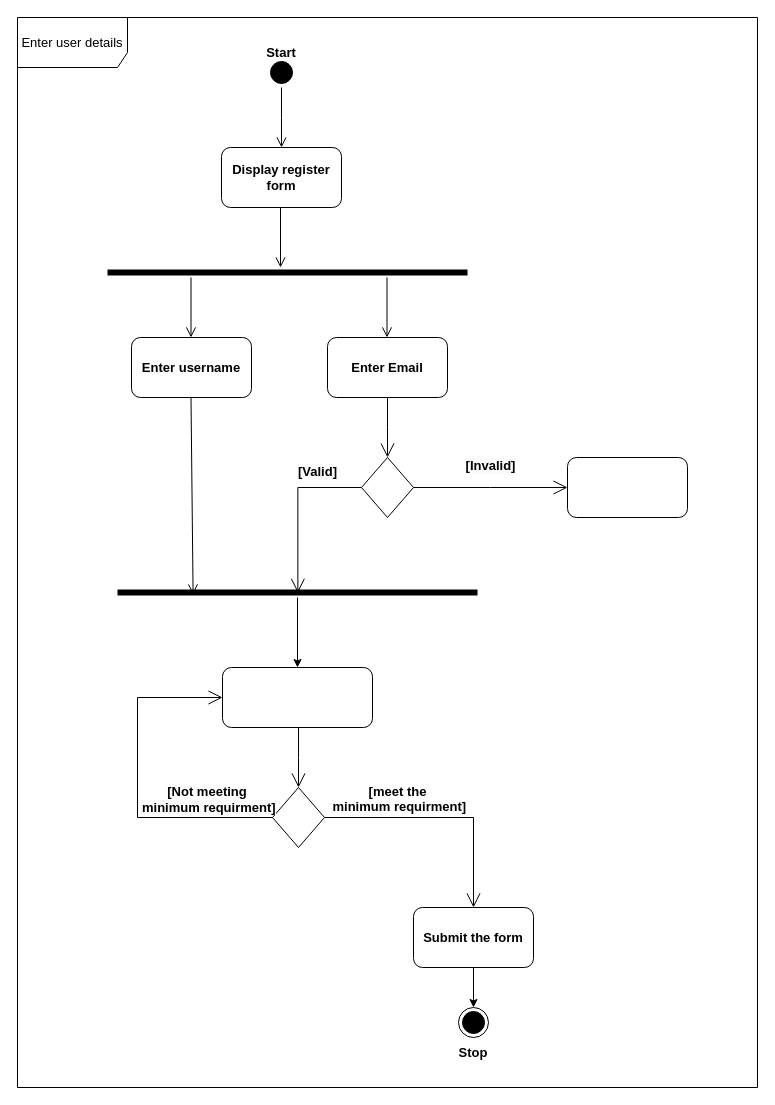
The diagram is 775 pixels wide and 1105 high, and some of its shapes have lost their labels. The shapes that lost their labels are listed below. From the top down, each one's centre as x and y in pixels, then its label:
At (x=627, y=487): "Modify Email".
At (x=297, y=697): "Enter password with security requirment".
